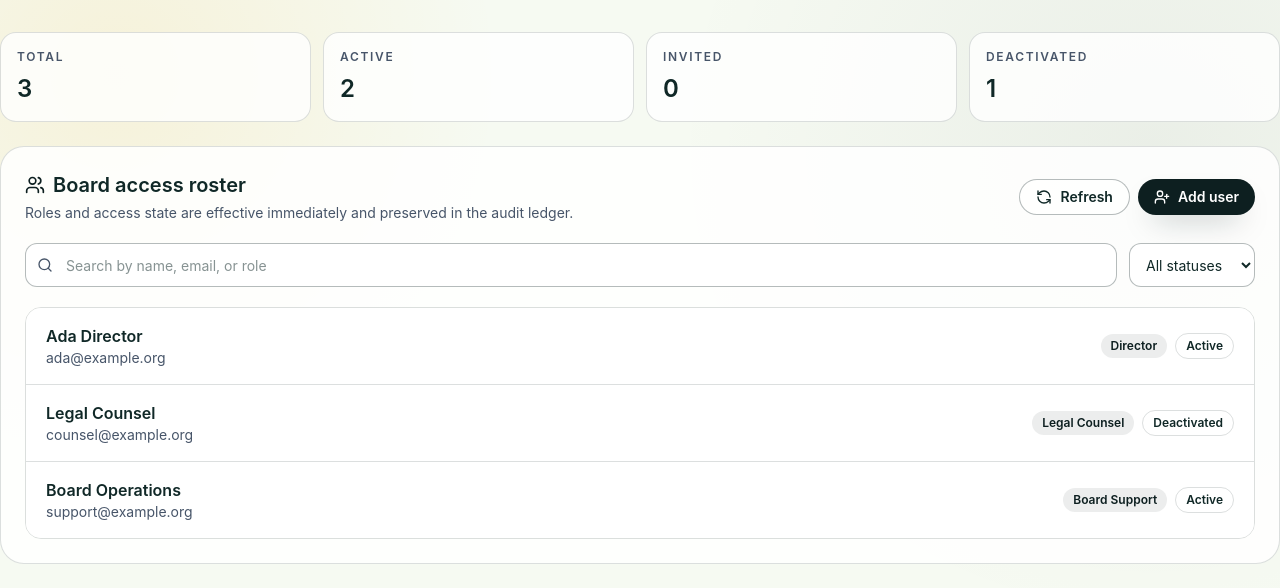
BoardUserManager › summarizes, filters, and expands the Board access roster
Expected: the text "3" is shown, top-left (17, 74), bottom-right (32, 103)
In the field with placeholder "Search by name, email, or role": (571, 265) top-left (25, 243), bottom-right (1117, 287), type "counsel"
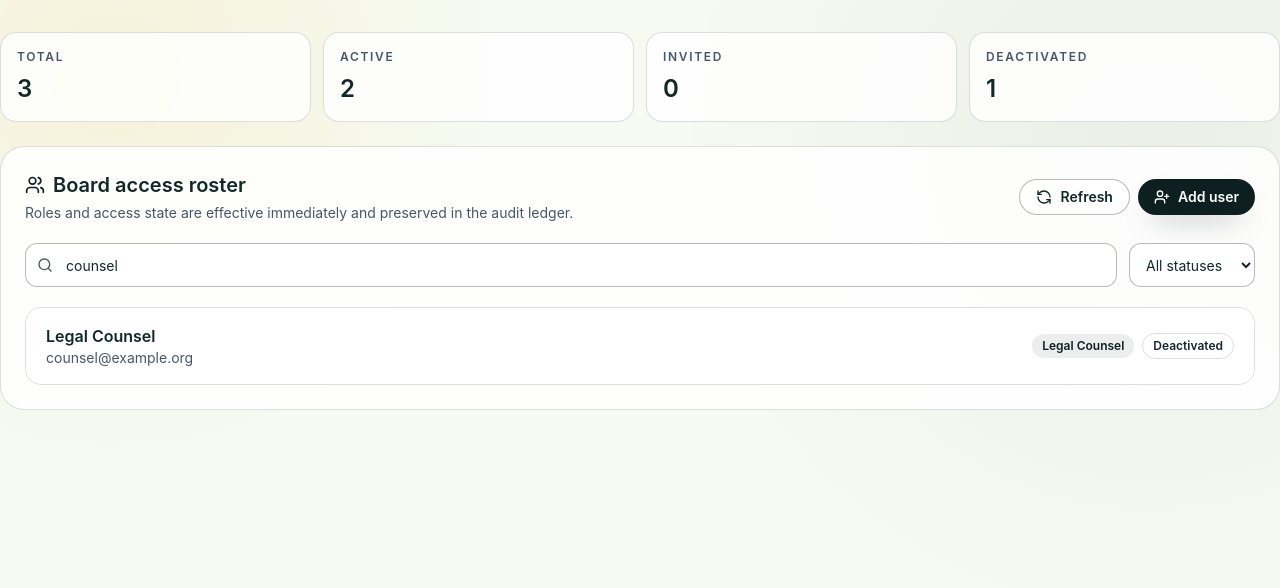
Now the button "Ada Director" is gone
Click the button "Legal Counsel counsel@example.org Legal Counsel Deactivated": (101, 336) top-left (26, 308), bottom-right (1254, 384)
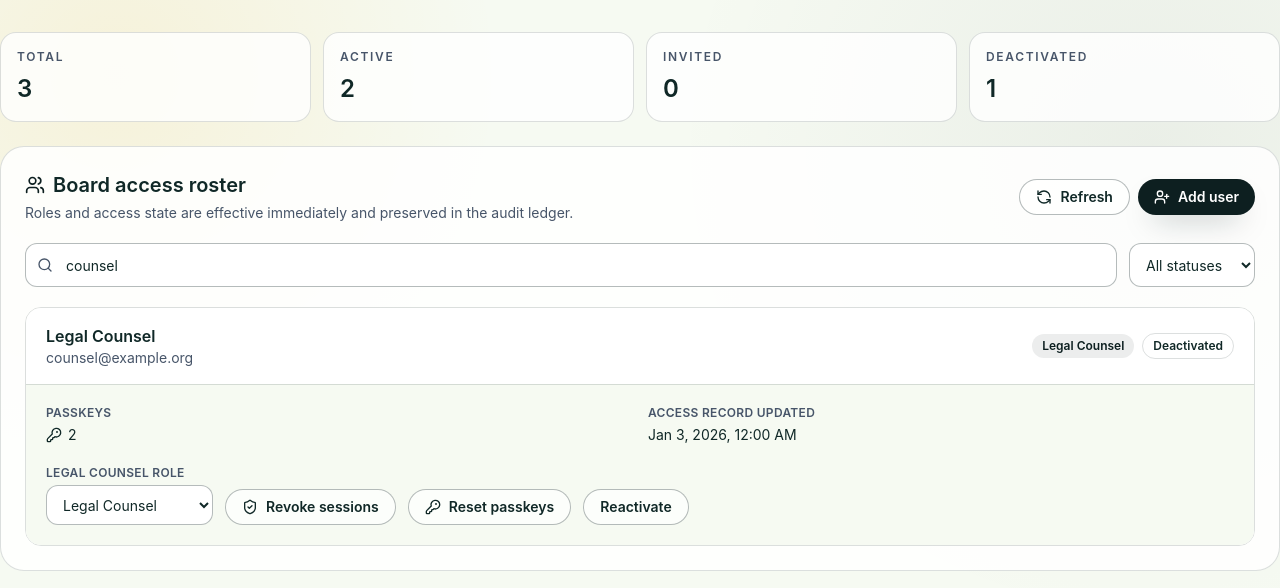
Now the text "Passkeys" is shown, box top-left (46, 405), bottom-right (112, 420)
Now the button "Reactivate" is shown, box top-left (583, 489), bottom-right (689, 525)
